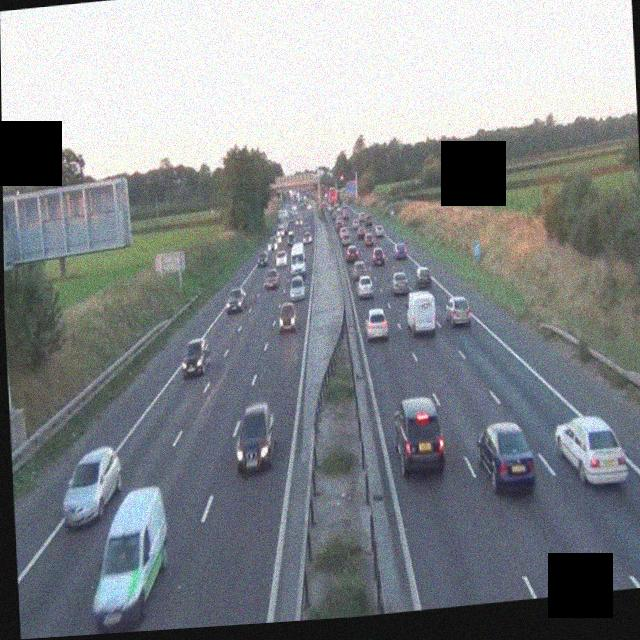car: (86, 483, 173, 633), (555, 412, 628, 489), (60, 444, 124, 526), (476, 419, 537, 496), (391, 393, 445, 477), (234, 401, 277, 473), (406, 291, 437, 335), (181, 336, 211, 379), (363, 305, 389, 342), (444, 294, 471, 328), (277, 300, 296, 333), (389, 268, 410, 295), (226, 285, 245, 314), (355, 270, 374, 298), (413, 265, 432, 290), (290, 272, 305, 299), (290, 255, 305, 280), (262, 268, 278, 291), (346, 242, 361, 263), (370, 245, 385, 265), (393, 242, 407, 260), (275, 247, 288, 266), (257, 250, 269, 269), (340, 228, 351, 245), (360, 229, 371, 245), (304, 230, 313, 244)
truck: (329, 189, 340, 206)
